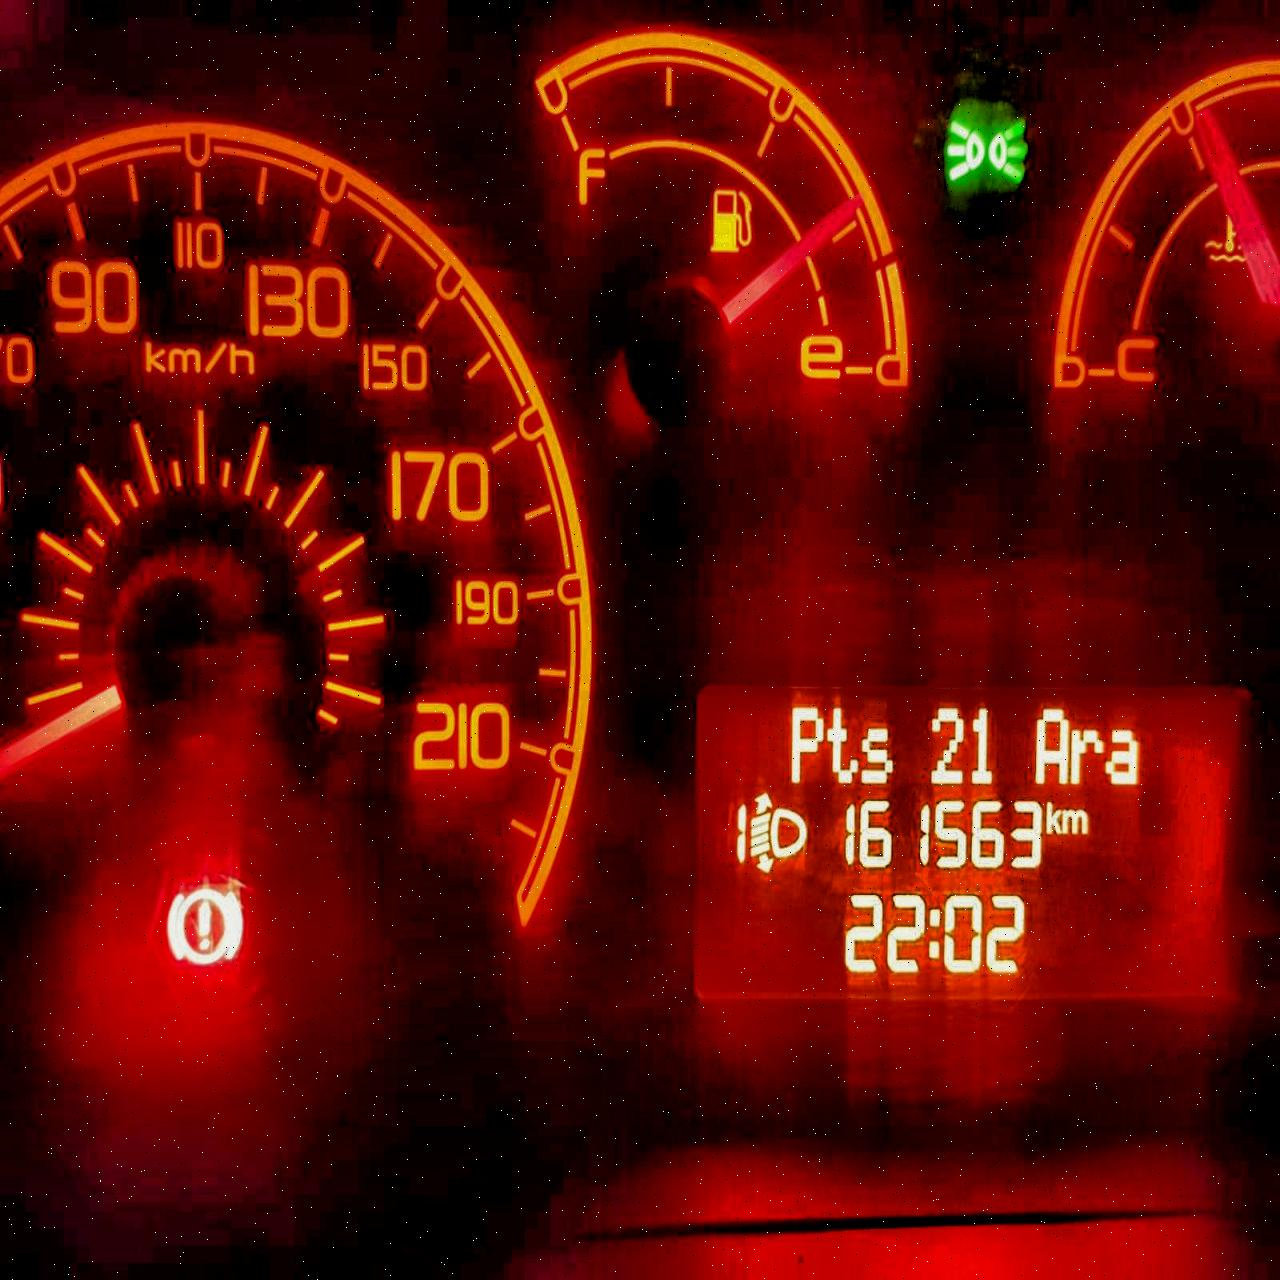0: (942, 888, 983, 981)
1: (968, 704, 998, 798), (733, 789, 749, 880), (914, 790, 932, 872), (839, 795, 855, 877)
2: (985, 890, 1028, 975), (927, 699, 965, 794), (842, 887, 880, 979), (887, 888, 921, 978)
3: (1009, 792, 1044, 872)
5: (933, 796, 968, 873)
6: (859, 795, 899, 869), (971, 794, 1008, 871)
X: (788, 699, 826, 787), (825, 700, 862, 788), (1033, 701, 1068, 788), (1107, 723, 1143, 796), (860, 722, 896, 787), (1069, 721, 1102, 784), (924, 898, 942, 967), (1062, 801, 1090, 843), (1042, 798, 1062, 837)
odometer: (687, 669, 1247, 1014)
